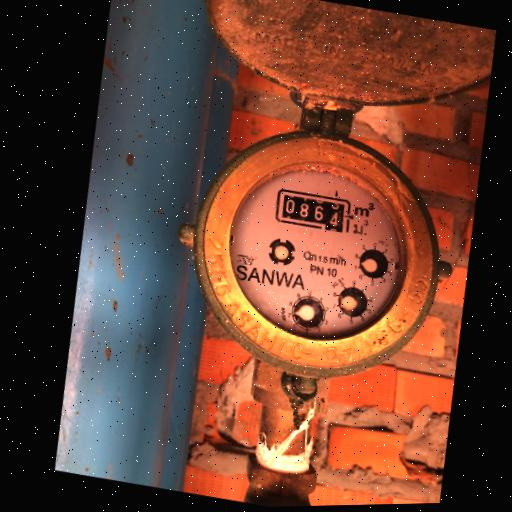0: (279, 194, 299, 219)
4: (322, 201, 347, 234)
6: (307, 198, 329, 225)
8: (293, 196, 314, 221)
border_water_meter_number: (272, 186, 354, 235)
